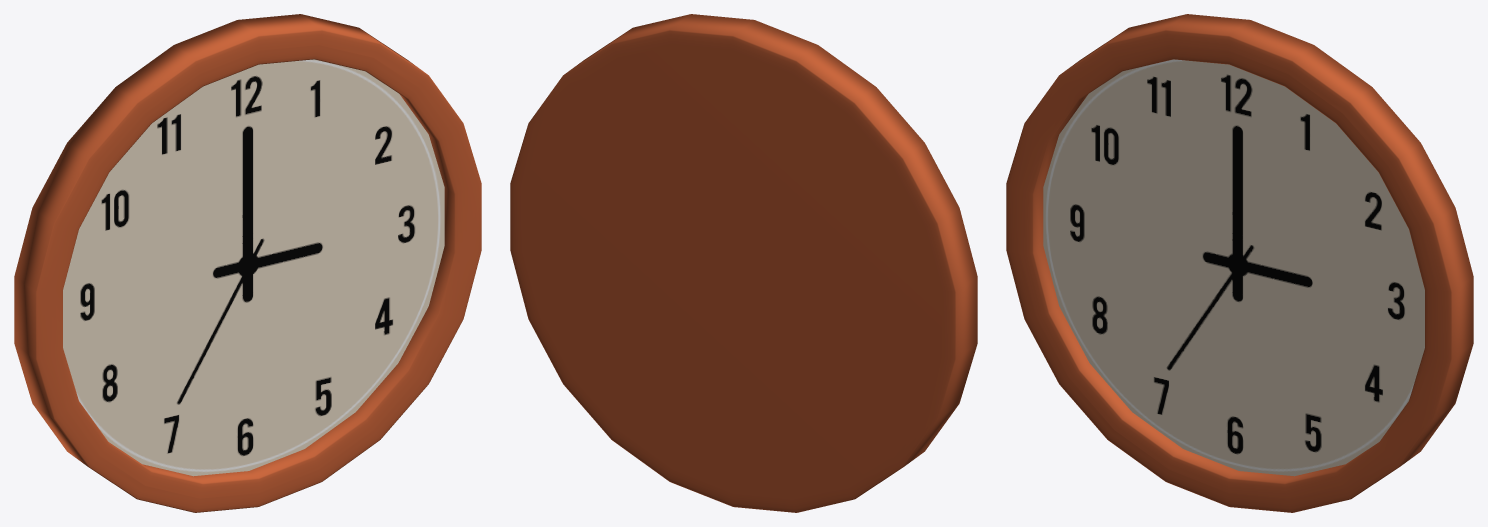
Rendered from reloj cocina.fbx.
3 renders of one model, left to right at view 1: azimuth 30°, elevation 25°; view 2: azimuth 150°, elevation 25°; view 3: azimuth 330°, elevation 25°, orthographic.
Visible parts, largest first — view 1: Cylinder.013, Cylinder.012; view 2: Cylinder.012; view 3: Cylinder.013, Cylinder.012.
Part boxes in pixels (x1,y1,x2,y2): Cylinder.013: (63,59,444,476); Cylinder.012: (14,14,481,512); Cylinder.012: (510,14,977,512); Cylinder.013: (1043,59,1424,476); Cylinder.012: (1006,14,1473,512).
Size of the model in its own units: 335 by 338 by 29.63.
